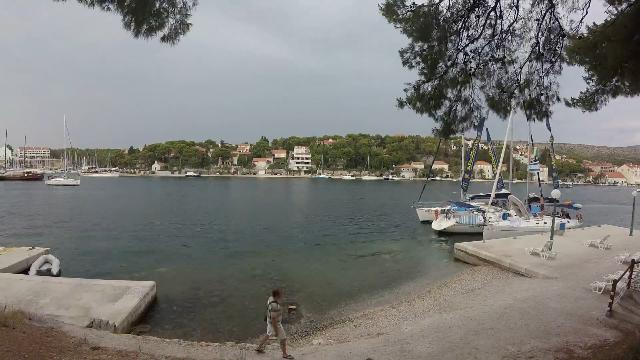Freighter: (0, 160, 50, 185)
Sailboat: (37, 174, 87, 188)
